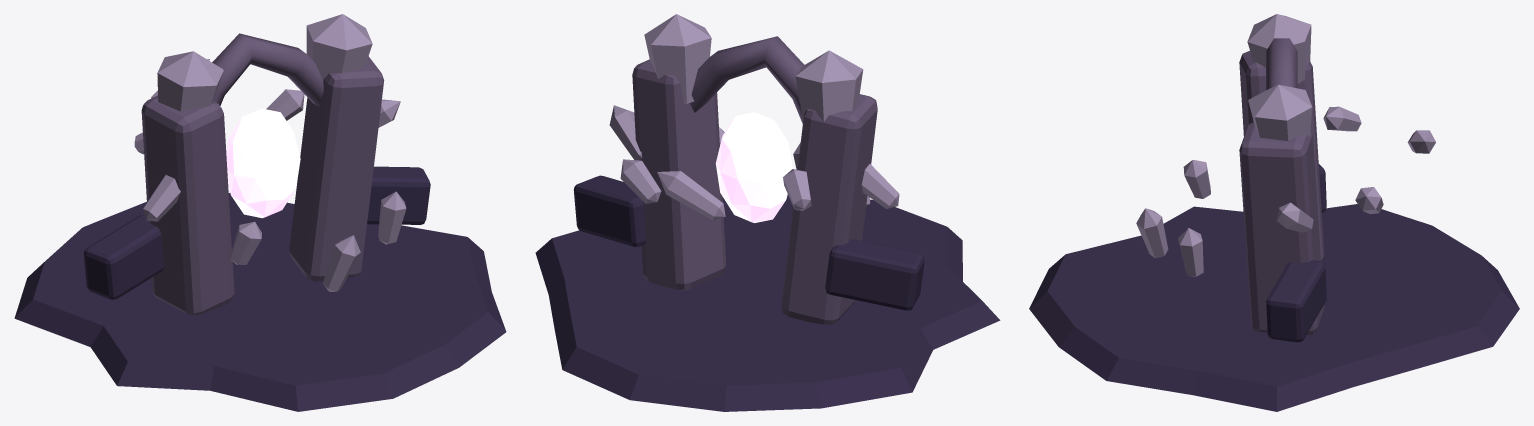
Rendered from void-scar-lod0.glb.
3 views of the same model, side by side, from view 1: azimuth 30°, elevation 25°; view 2: azimuth 150°, elevation 25°; view 3: azimuth 270°, elevation 25° (orthographic). The views are drawn at different scales.
Parts seen in each view (by area): view 1: DARK_TERRAIN_SOCKET, STONE_SHATTERED_MONOLITH_-1, STONE_SHATTERED_MONOLITH_1, FX_CORE, DARK_MONOLITH_WING_-1, STONE_VOID_GATE_ARCH, CRYSTAL_BROKEN_CROWN_1, CRYSTAL_BROKEN_CROWN_-1, DARK_MONOLITH_WING_1, FX_FLOAT_DEBRIS_6, FX_FLOAT_DEBRIS_7, FX_FLOAT_DEBRIS_4 (+2 smaller); view 2: DARK_TERRAIN_SOCKET, STONE_SHATTERED_MONOLITH_1, STONE_SHATTERED_MONOLITH_-1, FX_CORE, DARK_MONOLITH_WING_-1, STONE_VOID_GATE_ARCH, DARK_MONOLITH_WING_1, CRYSTAL_BROKEN_CROWN_1, CRYSTAL_BROKEN_CROWN_-1, FX_FLOAT_DEBRIS_2, FX_FLOAT_DEBRIS_1, FX_FLOAT_DEBRIS_4 (+2 smaller); view 3: DARK_TERRAIN_SOCKET, STONE_SHATTERED_MONOLITH_1, DARK_MONOLITH_WING_1, CRYSTAL_BROKEN_CROWN_1, STONE_SHATTERED_MONOLITH_-1, CRYSTAL_BROKEN_CROWN_-1, STONE_VOID_GATE_ARCH, FX_FLOAT_DEBRIS_6, FX_FLOAT_DEBRIS_7, FX_FLOAT_DEBRIS_5, FX_FLOAT_DEBRIS_0, FX_FLOAT_DEBRIS_3 (+2 smaller).
Part boxes in pixels (x1,y1,x2,y2): DARK_TERRAIN_SOCKET: [14, 193, 506, 411]; STONE_SHATTERED_MONOLITH_-1: [141, 95, 234, 315]; STONE_SHATTERED_MONOLITH_1: [289, 56, 384, 281]; FX_CORE: [226, 108, 300, 218]; DARK_MONOLITH_WING_-1: [83, 215, 163, 299]; STONE_VOID_GATE_ARCH: [212, 33, 323, 106]; CRYSTAL_BROKEN_CROWN_1: [306, 14, 372, 80]; CRYSTAL_BROKEN_CROWN_-1: [157, 51, 223, 111]; DARK_MONOLITH_WING_1: [367, 166, 430, 224]; FX_FLOAT_DEBRIS_6: [322, 235, 360, 291]; FX_FLOAT_DEBRIS_7: [378, 191, 406, 244]; FX_FLOAT_DEBRIS_4: [143, 175, 180, 221]; DARK_TERRAIN_SOCKET: [535, 194, 1000, 411]; STONE_SHATTERED_MONOLITH_1: [632, 59, 726, 290]; STONE_SHATTERED_MONOLITH_-1: [781, 94, 877, 324]; FX_CORE: [715, 112, 792, 222]; DARK_MONOLITH_WING_-1: [825, 239, 924, 310]; STONE_VOID_GATE_ARCH: [690, 36, 804, 123]; DARK_MONOLITH_WING_1: [573, 175, 646, 246]; CRYSTAL_BROKEN_CROWN_1: [644, 14, 711, 103]; CRYSTAL_BROKEN_CROWN_-1: [795, 50, 863, 121]; FX_FLOAT_DEBRIS_2: [657, 171, 725, 220]; FX_FLOAT_DEBRIS_1: [620, 159, 661, 203]; FX_FLOAT_DEBRIS_4: [861, 164, 899, 208]; DARK_TERRAIN_SOCKET: [1029, 204, 1519, 411]; STONE_SHATTERED_MONOLITH_1: [1239, 122, 1324, 334]; DARK_MONOLITH_WING_1: [1266, 260, 1326, 342]; CRYSTAL_BROKEN_CROWN_1: [1248, 84, 1312, 140]; STONE_SHATTERED_MONOLITH_-1: [1239, 50, 1324, 261]; CRYSTAL_BROKEN_CROWN_-1: [1247, 14, 1311, 83]; STONE_VOID_GATE_ARCH: [1266, 38, 1297, 90]; FX_FLOAT_DEBRIS_6: [1136, 208, 1168, 258]; FX_FLOAT_DEBRIS_7: [1178, 228, 1203, 276]; FX_FLOAT_DEBRIS_5: [1183, 160, 1210, 198]; FX_FLOAT_DEBRIS_0: [1276, 202, 1313, 232]; FX_FLOAT_DEBRIS_3: [1323, 106, 1361, 131].
Bounding box in the file's own units: 1.93 × 1.19 × 2.02.
